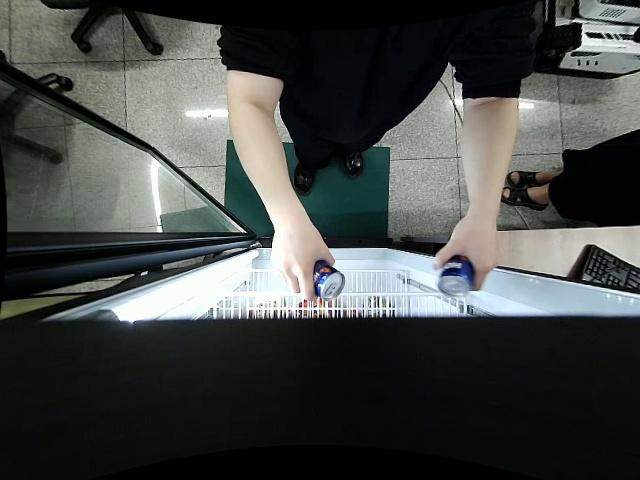00_hand: (430, 213, 501, 293), (271, 221, 336, 301)
16_hot6: (439, 256, 476, 297), (313, 261, 346, 301)
